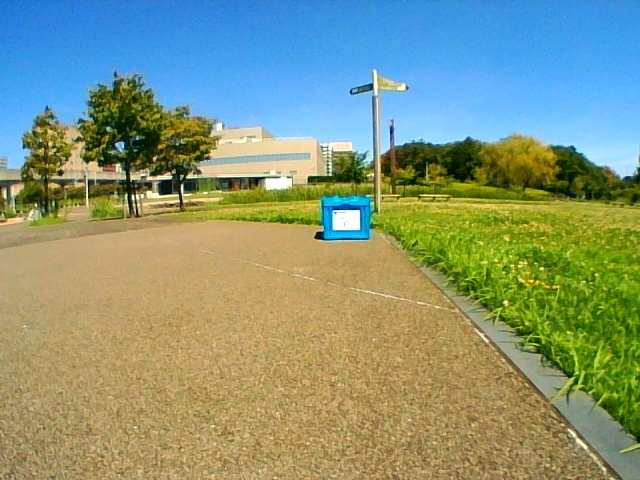blue_box: (322, 197, 367, 239)
tag: (333, 211, 362, 230)
